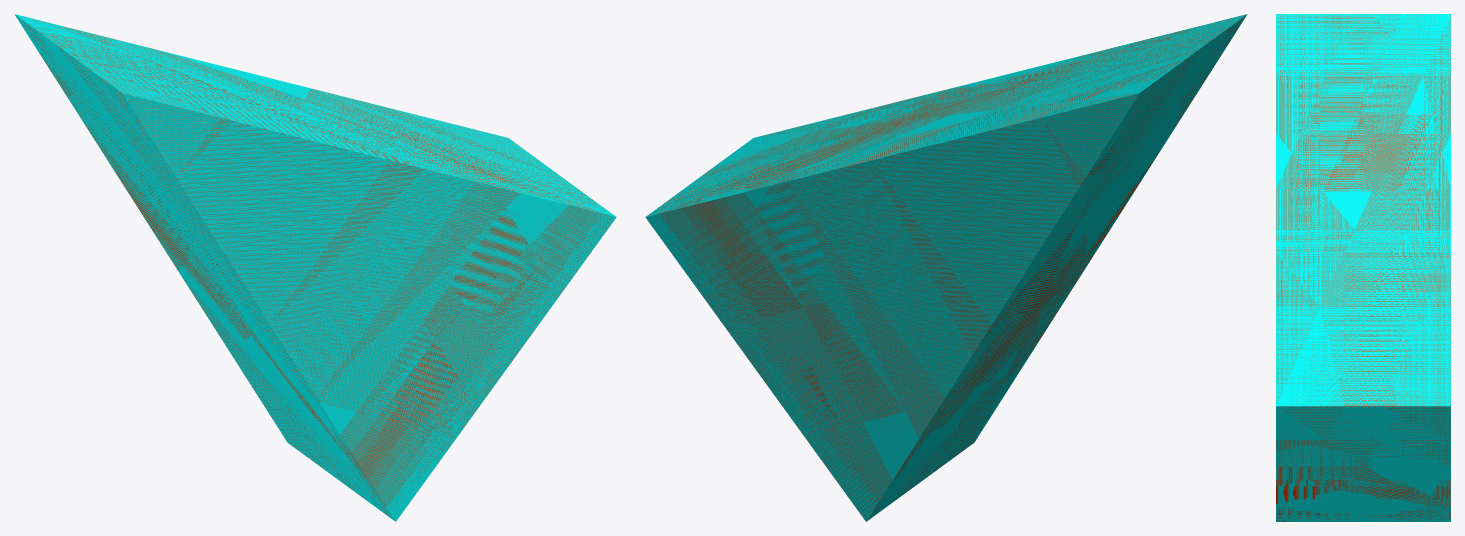
The model's file is cake_blue.dae.
The picture shows the model from 3 angles, left to right: view 1: azimuth 30°, elevation 25°; view 2: azimuth 150°, elevation 25°; view 3: azimuth 270°, elevation 25°; orthographic projection. The views are drawn at different scales.
Parts seen in each view (by area): view 1: SketchUp; view 2: SketchUp; view 3: SketchUp.
Part boxes in pixels (box(x1,y1,x2,y2)): SketchUp: box(14, 14, 616, 521); SketchUp: box(645, 14, 1247, 521); SketchUp: box(1276, 14, 1450, 521).
Size of the model in its own units: 128 by 48.43 by 122.
